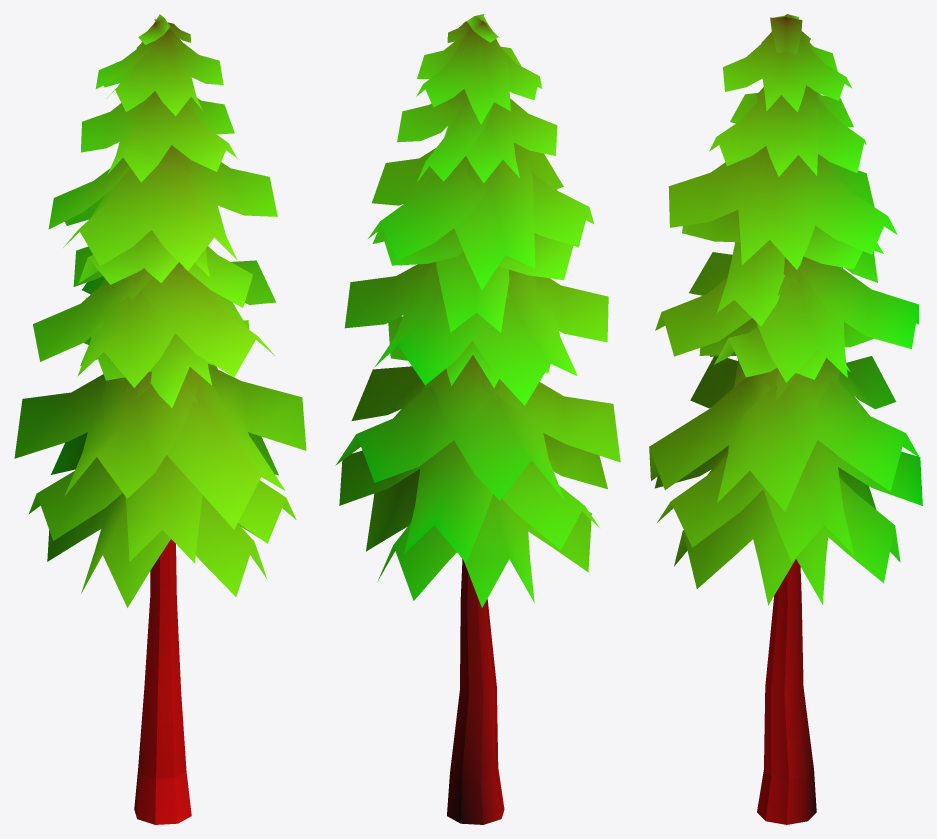
Rendered from SM_Tree_Pine_Large_01.fbx.
3 views of the same model, side by side, from view 1: azimuth 30°, elevation 25°; view 2: azimuth 150°, elevation 25°; view 3: azimuth 270°, elevation 25° (orthographic).
Parts seen in each view (by area): view 1: SM_Tree_Pine_Large_01; view 2: SM_Tree_Pine_Large_01; view 3: SM_Tree_Pine_Large_01.
Boxes of the visible parts, left/top/right/bottom form: SM_Tree_Pine_Large_01: left=14, top=14, right=306, bottom=824; SM_Tree_Pine_Large_01: left=335, top=14, right=620, bottom=824; SM_Tree_Pine_Large_01: left=649, top=14, right=922, bottom=824.
Bounding box in the file's own units: 244 × 753 × 234.
